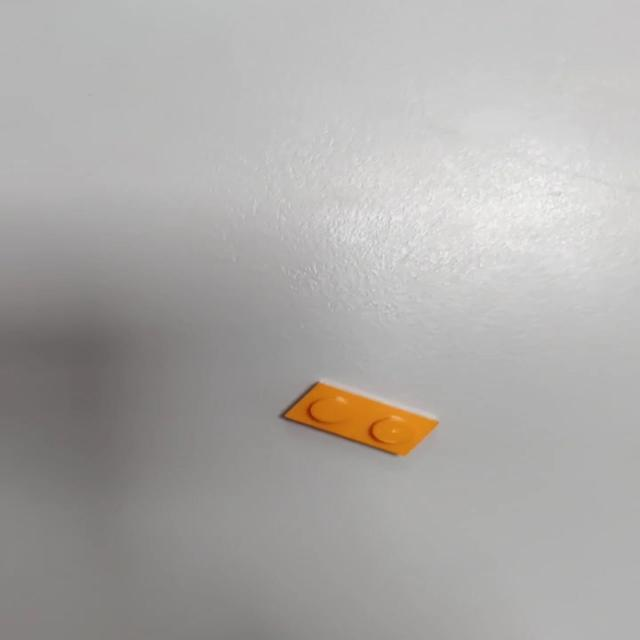C2x1x0: (277, 379, 442, 458)
